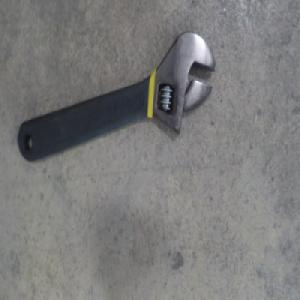AdjustableWrench: (19, 32, 218, 163)
